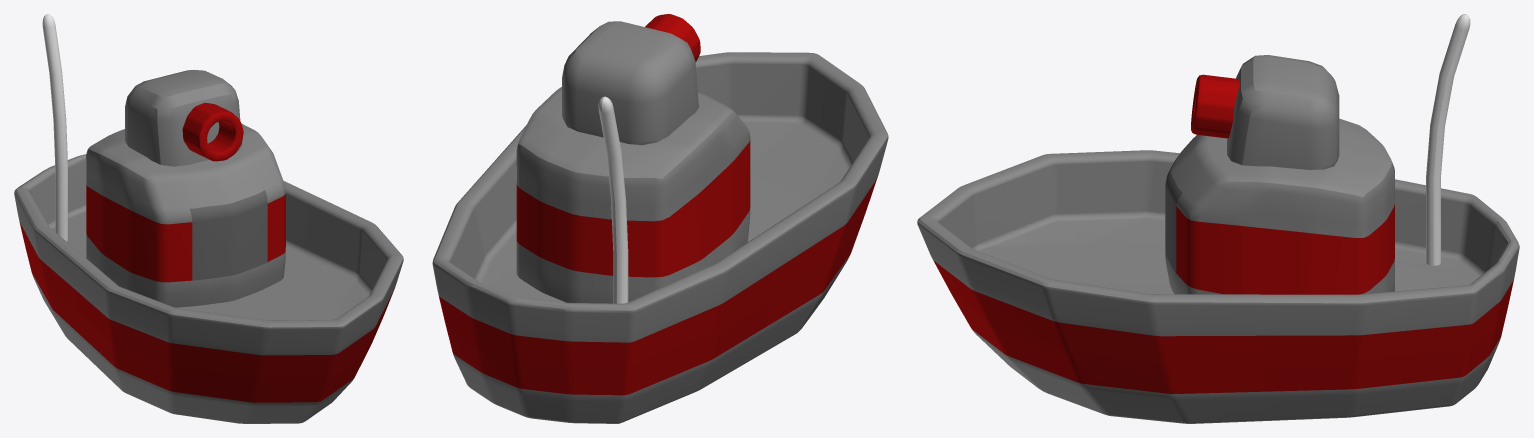
Rendered from NavioRed.fbx.
3 views of the same model, side by side, from view 1: azimuth 30°, elevation 25°; view 2: azimuth 150°, elevation 25°; view 3: azimuth 270°, elevation 25° (orthographic). The views are drawn at different scales.
Visible parts, largest first — view 1: group1_pCube1; view 2: group1_pCube1; view 3: group1_pCube1.
Boxes of the visible parts, x1=… form: group1_pCube1: x1=14, y1=14, x2=403, y2=423; group1_pCube1: x1=432, y1=14, x2=888, y2=423; group1_pCube1: x1=917, y1=14, x2=1519, y2=423.
Size of the model in its own units: 275 by 276 by 463.
